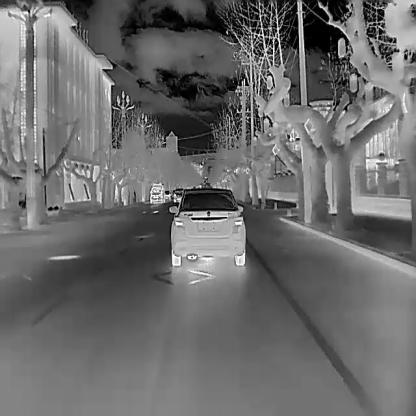car: (170, 187, 245, 265), (173, 187, 182, 201), (163, 190, 170, 198)
truck: (149, 182, 164, 202)
